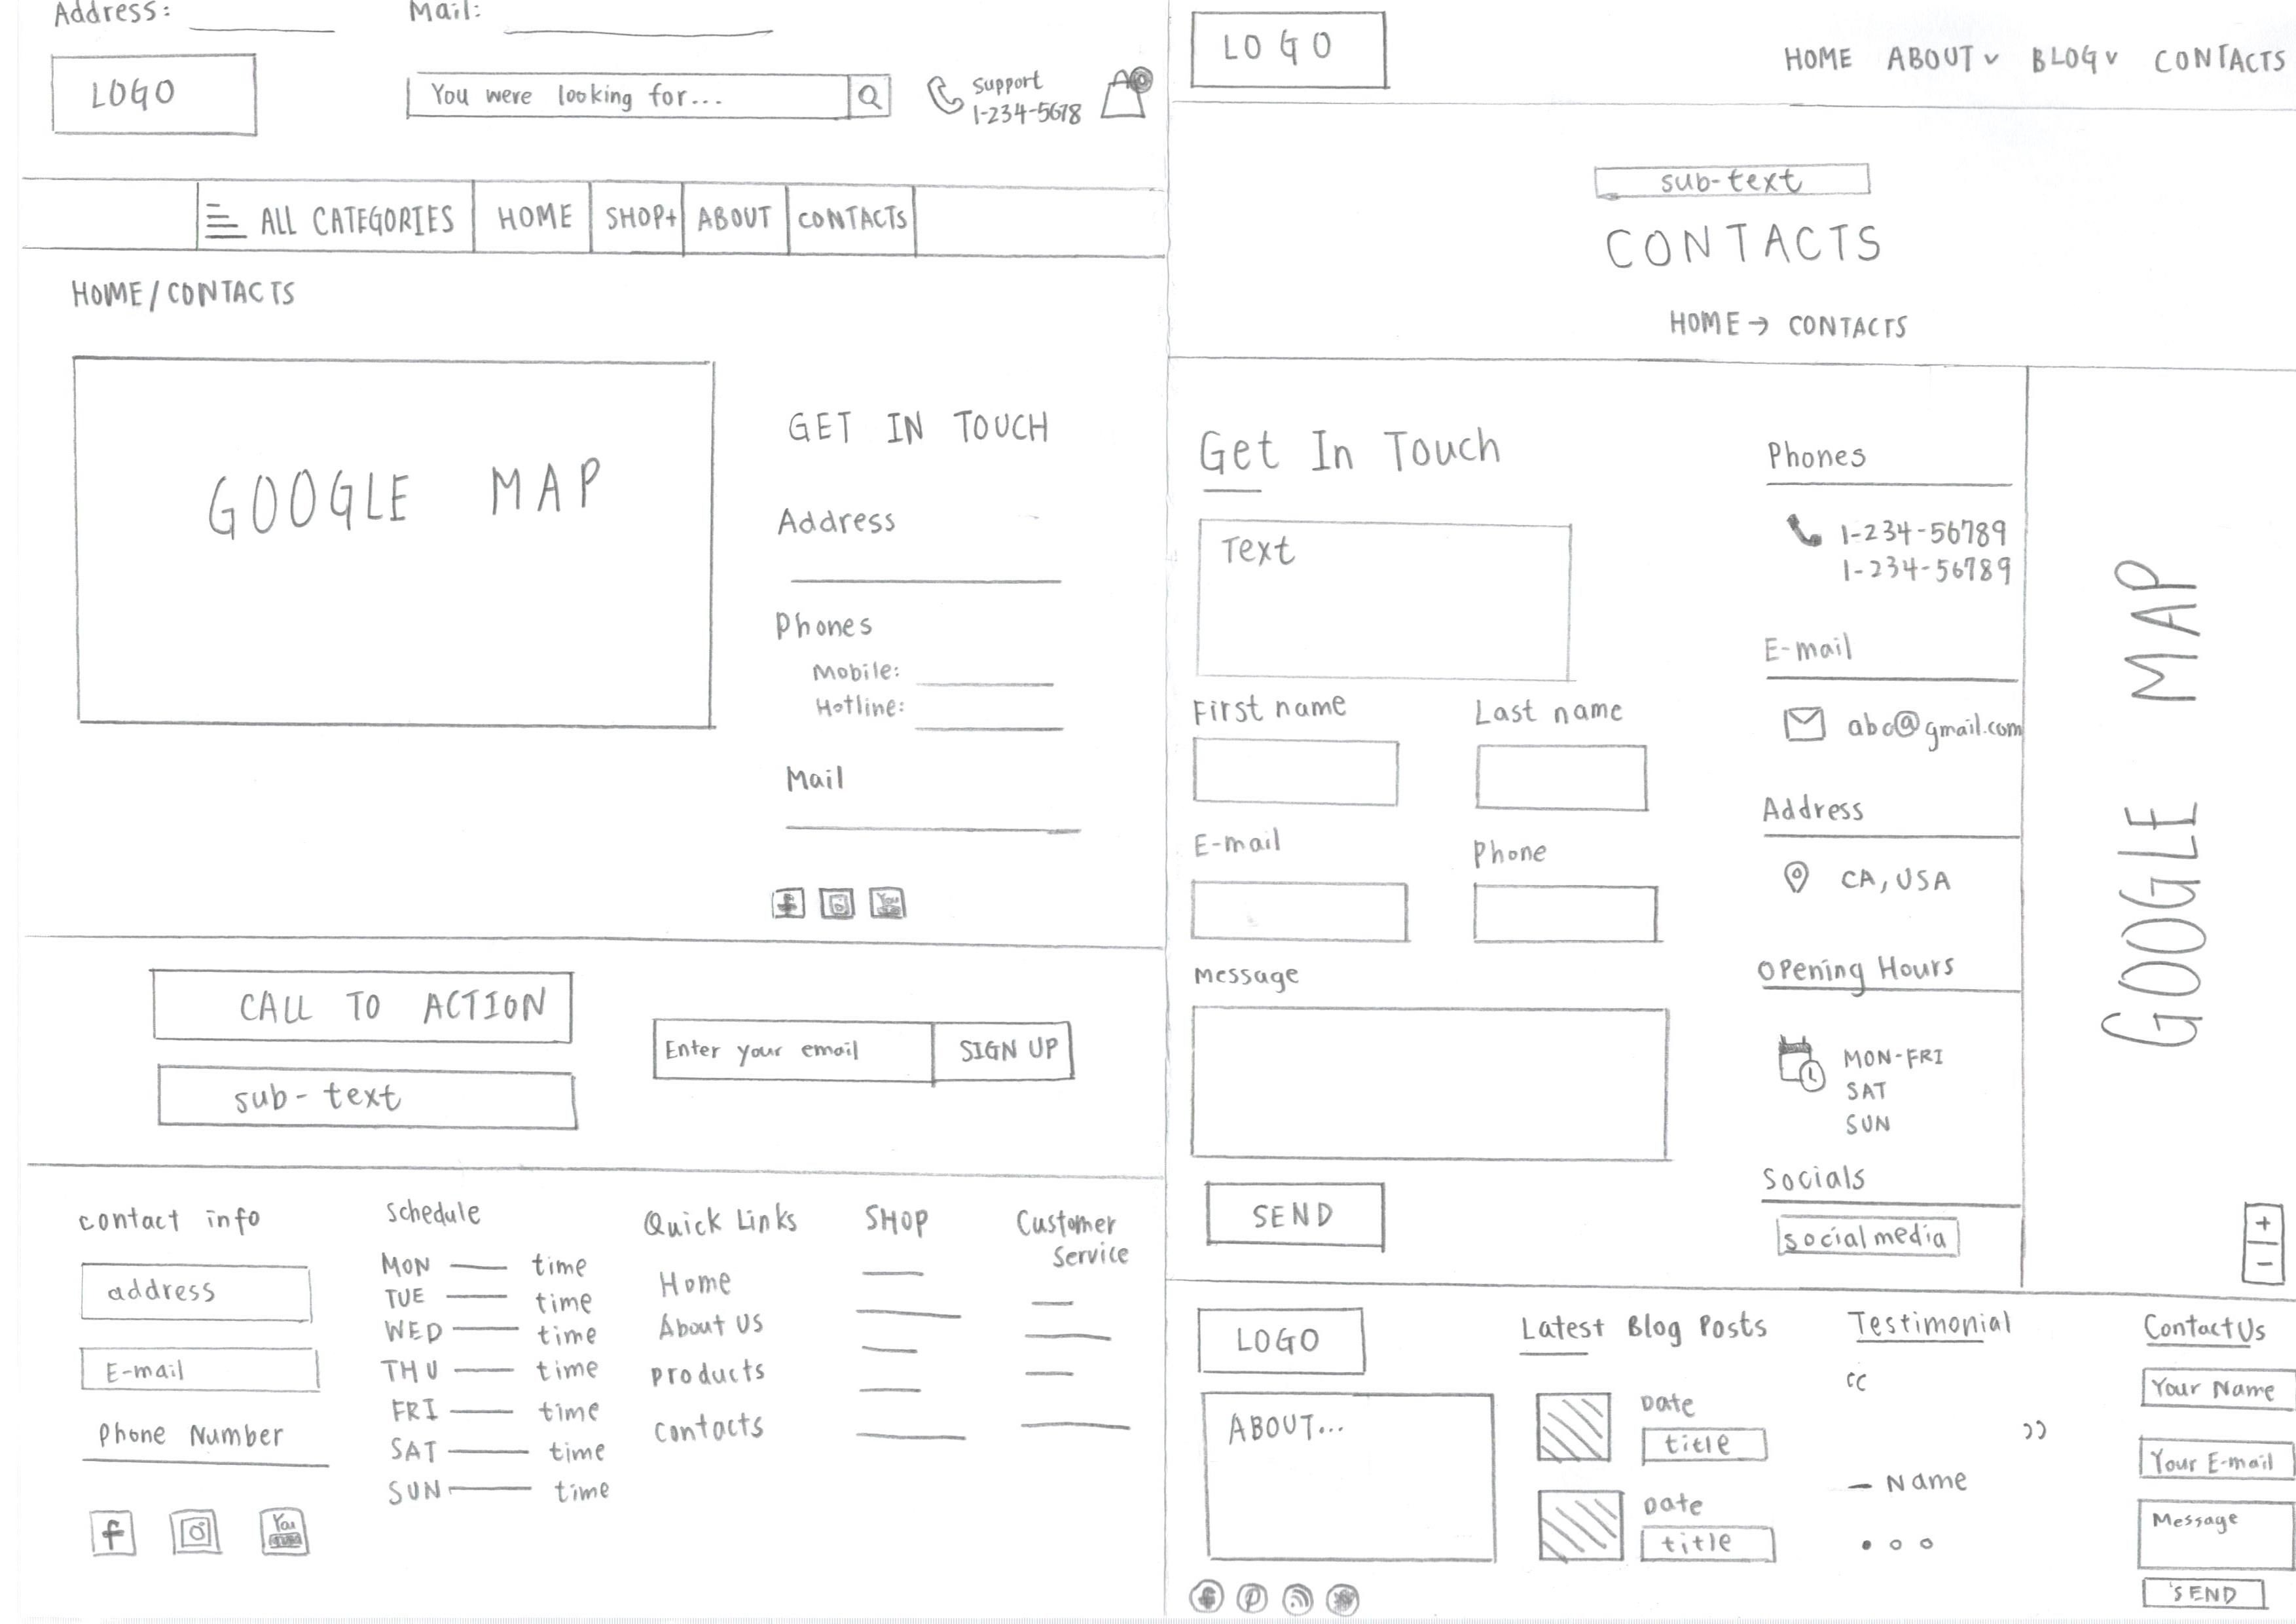btn-active: (213, 387, 615, 508), (218, 475, 636, 584)
text: (239, 267, 650, 329), (185, 193, 582, 253), (269, 344, 652, 397), (218, 121, 570, 172)
